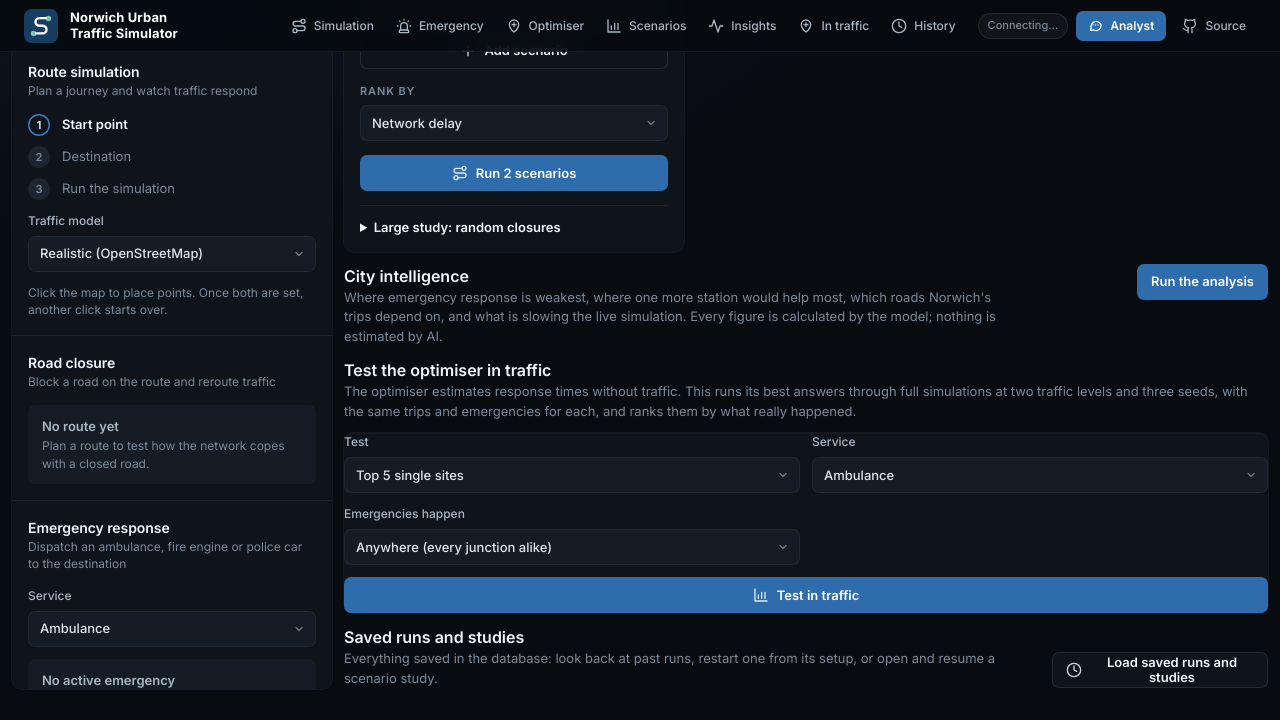
the optimiser tested in traffic › shows each candidate's simulated time next to the optimiser's estimate
(page scrolled)
Click the button "Test in traffic".
click(806, 595)  # box [344,577,1268,613]
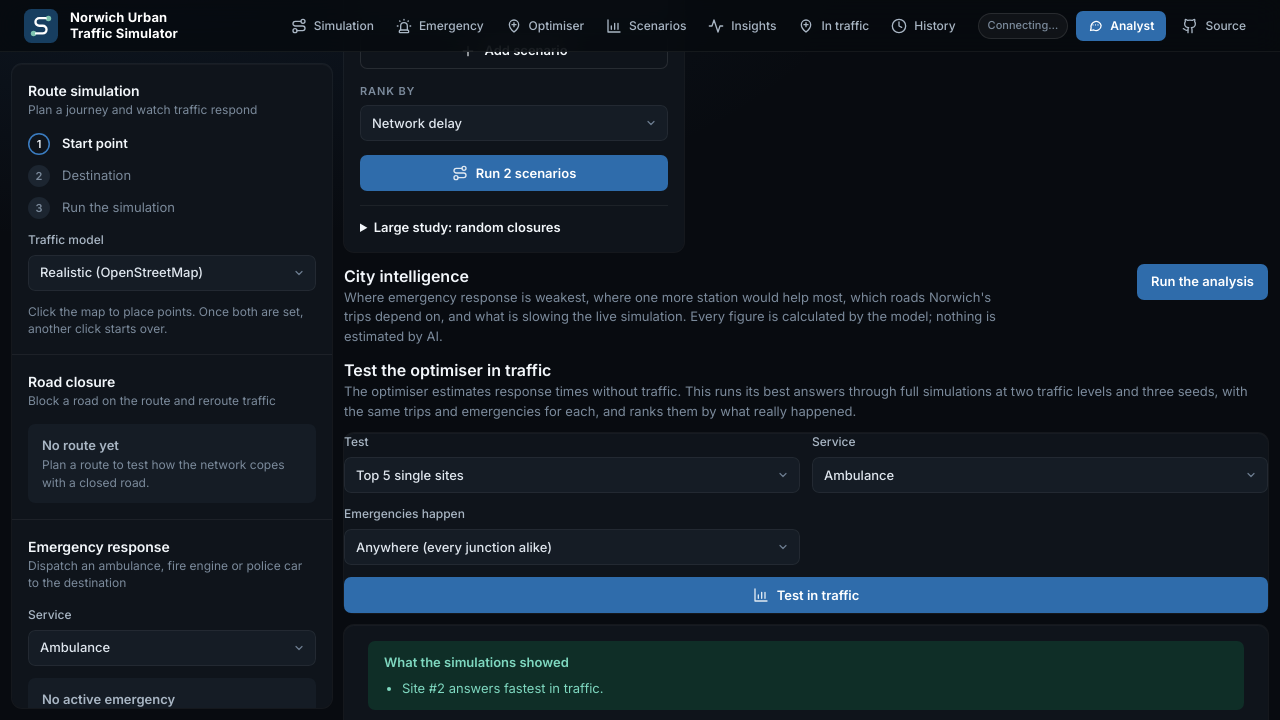
Expected: the list item "Site #2 answers fastest in traffic." is shown, [402,680,604,696]
